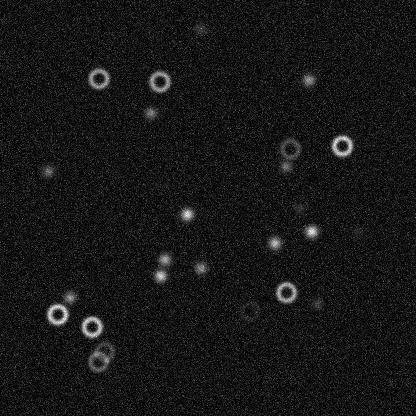Ring: (45, 302, 69, 326), (86, 349, 110, 373), (237, 298, 261, 322), (79, 314, 103, 338), (274, 280, 298, 304), (147, 69, 171, 93), (92, 339, 116, 363), (277, 136, 301, 160), (330, 133, 354, 157), (86, 66, 110, 90)
Spot: (349, 223, 365, 239), (192, 259, 208, 275), (300, 71, 316, 87), (40, 163, 56, 179), (303, 223, 319, 239), (192, 21, 208, 37), (290, 200, 306, 216), (156, 251, 172, 267), (266, 234, 282, 250), (308, 295, 324, 311), (152, 267, 168, 283), (61, 289, 77, 305), (142, 105, 158, 121), (277, 158, 293, 174), (179, 206, 195, 222)
